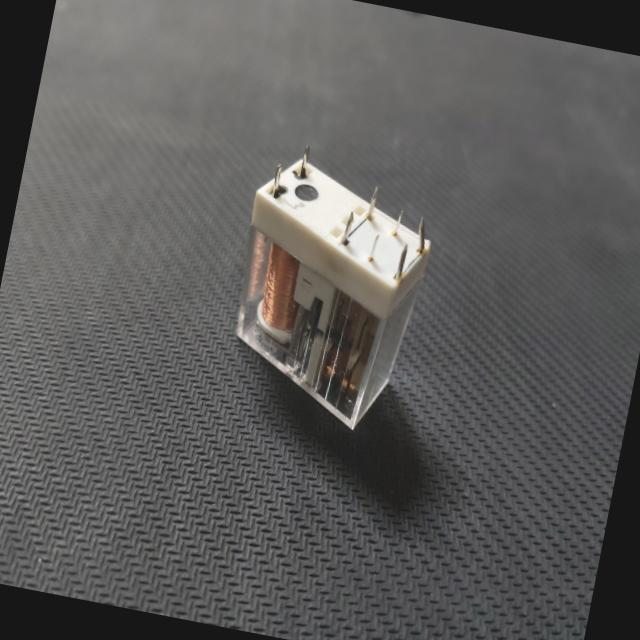relay: (210, 130, 456, 450)
